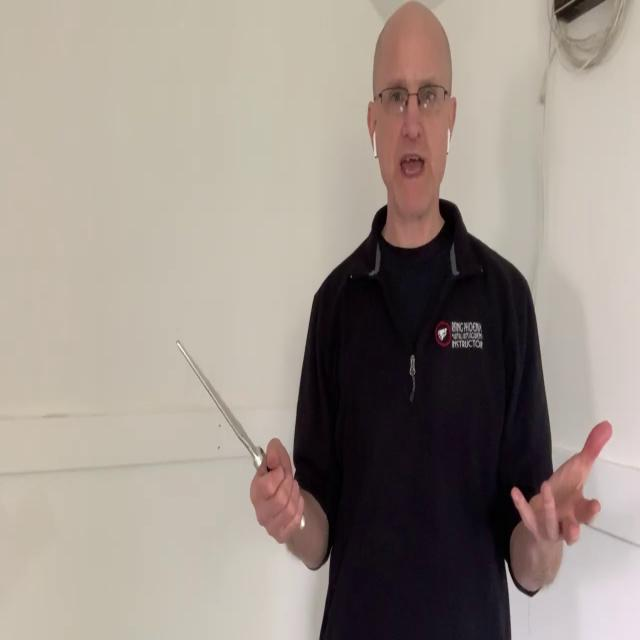Knife_Handle: (176, 340, 305, 544)
